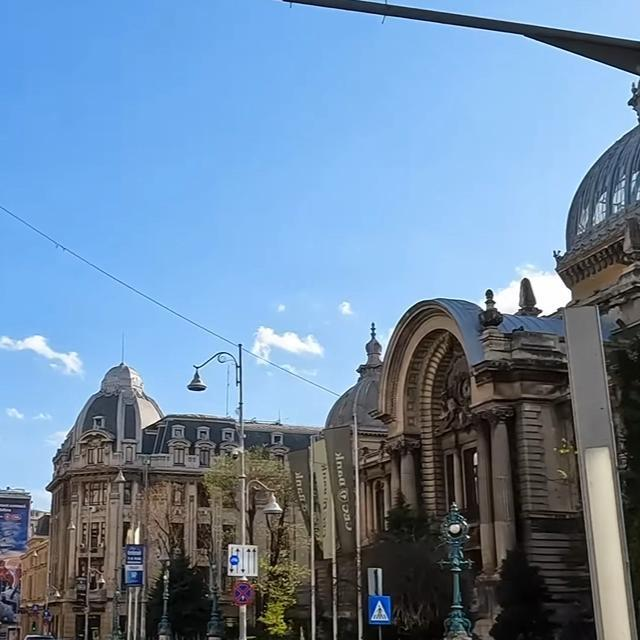forb_waiting: (233, 579, 253, 604)
info_crosswalk: (367, 594, 391, 624)
